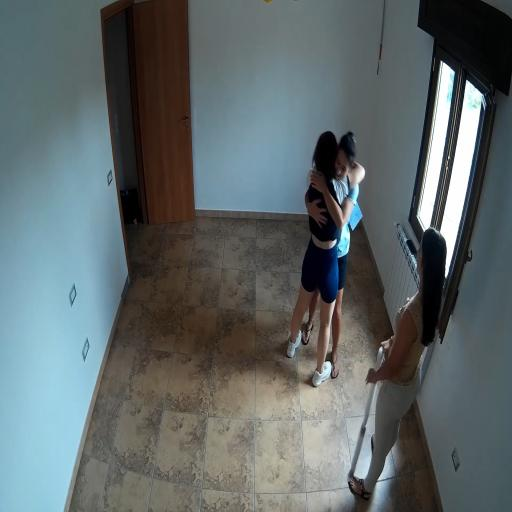nao-violencia: (277, 111, 368, 395)
